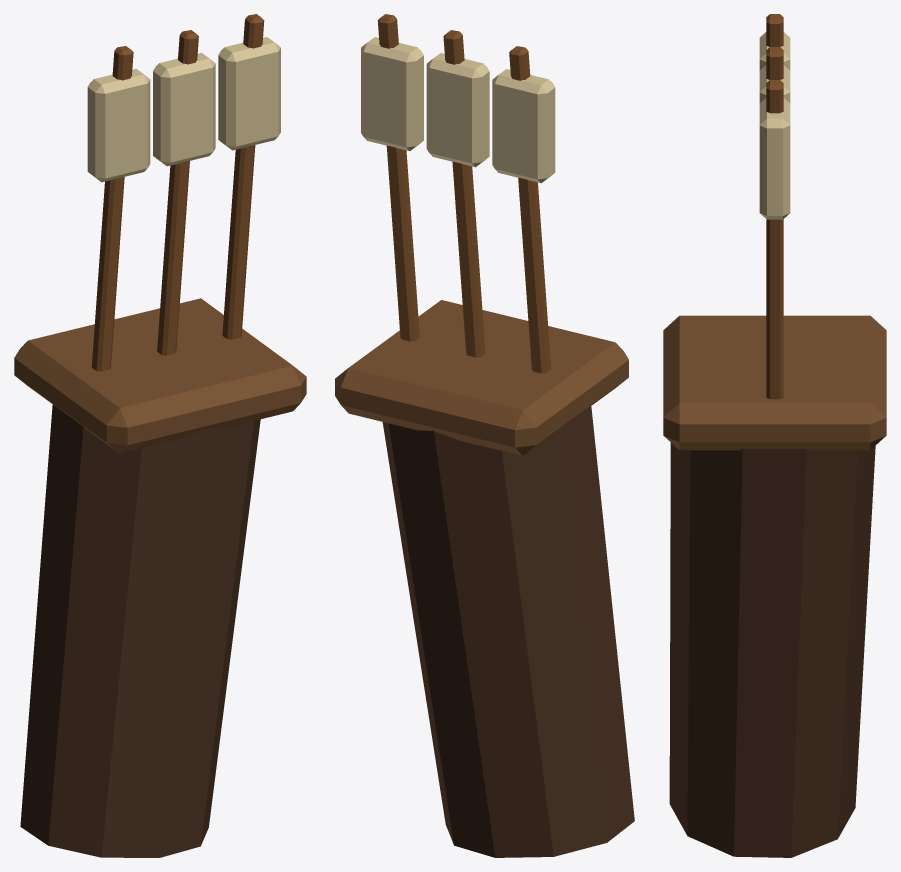
File: SM_NPC_Back_02_Quiver.glb
3 renders of one model, left to right at view 1: azimuth 30°, elevation 25°; view 2: azimuth 150°, elevation 25°; view 3: azimuth 270°, elevation 25°, orthographic. The views are drawn at different scales.
Visible parts, largest first — view 1: SM_NPC_Back_02_Quiver; view 2: SM_NPC_Back_02_Quiver; view 3: SM_NPC_Back_02_Quiver.
Part boxes in pixels (x1=…): SM_NPC_Back_02_Quiver: x1=14, y1=14, x2=306, y2=857; SM_NPC_Back_02_Quiver: x1=335, y1=14, x2=634, y2=857; SM_NPC_Back_02_Quiver: x1=663, y1=14, x2=886, y2=857.
Bounding box in the file's own units: 0.24 × 0.7205 × 0.18.
